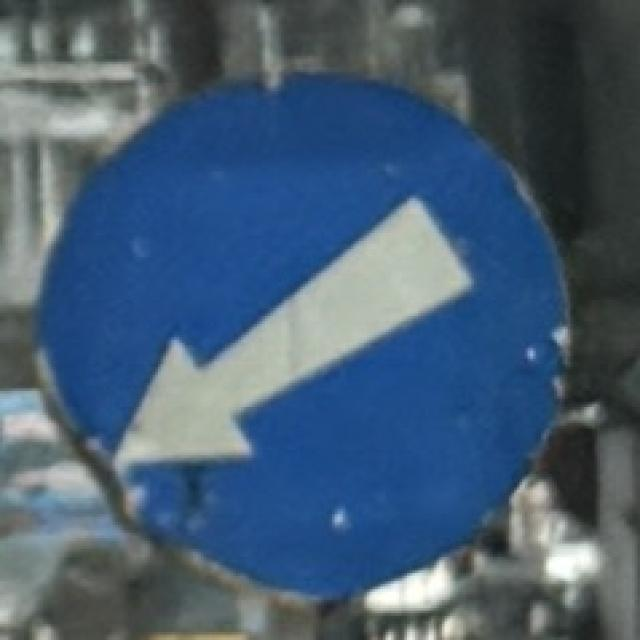KEEP_LEFT: (29, 65, 580, 607)
